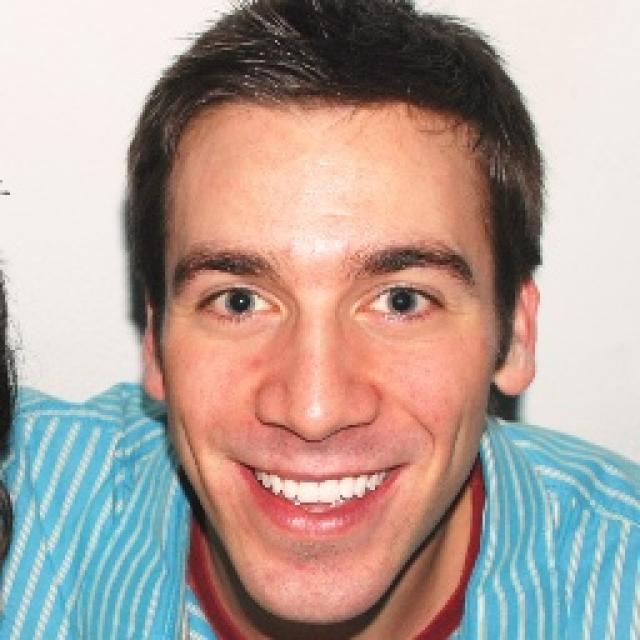earlobe: (491, 266, 540, 398), (129, 282, 170, 403)
